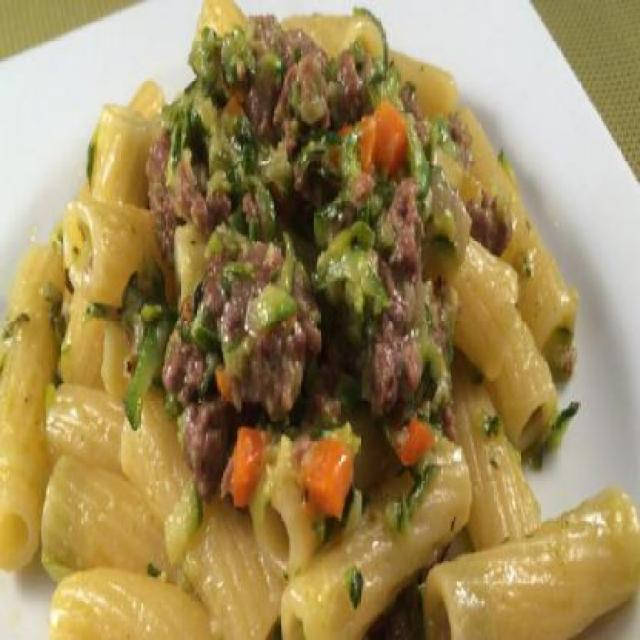Pasta al ragu: (20, 2, 637, 635)
